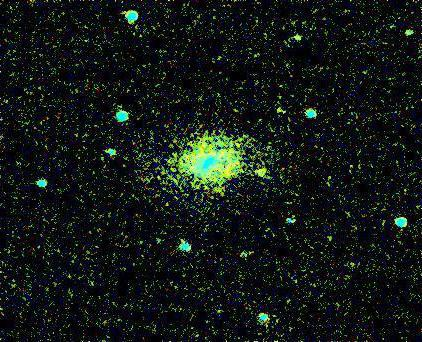star: (247, 150, 277, 180)
